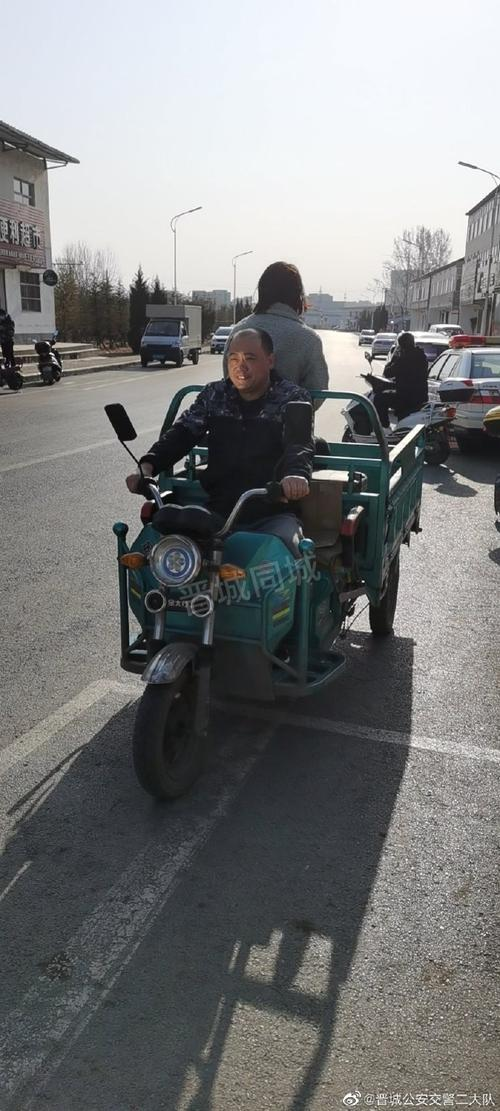driver: (171, 334, 310, 608)
overloading: (103, 237, 427, 813)
passenger: (241, 261, 343, 420)
